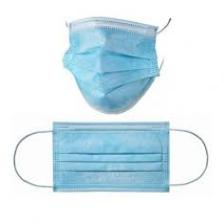mask: (13, 122, 206, 193), (62, 18, 173, 114)
